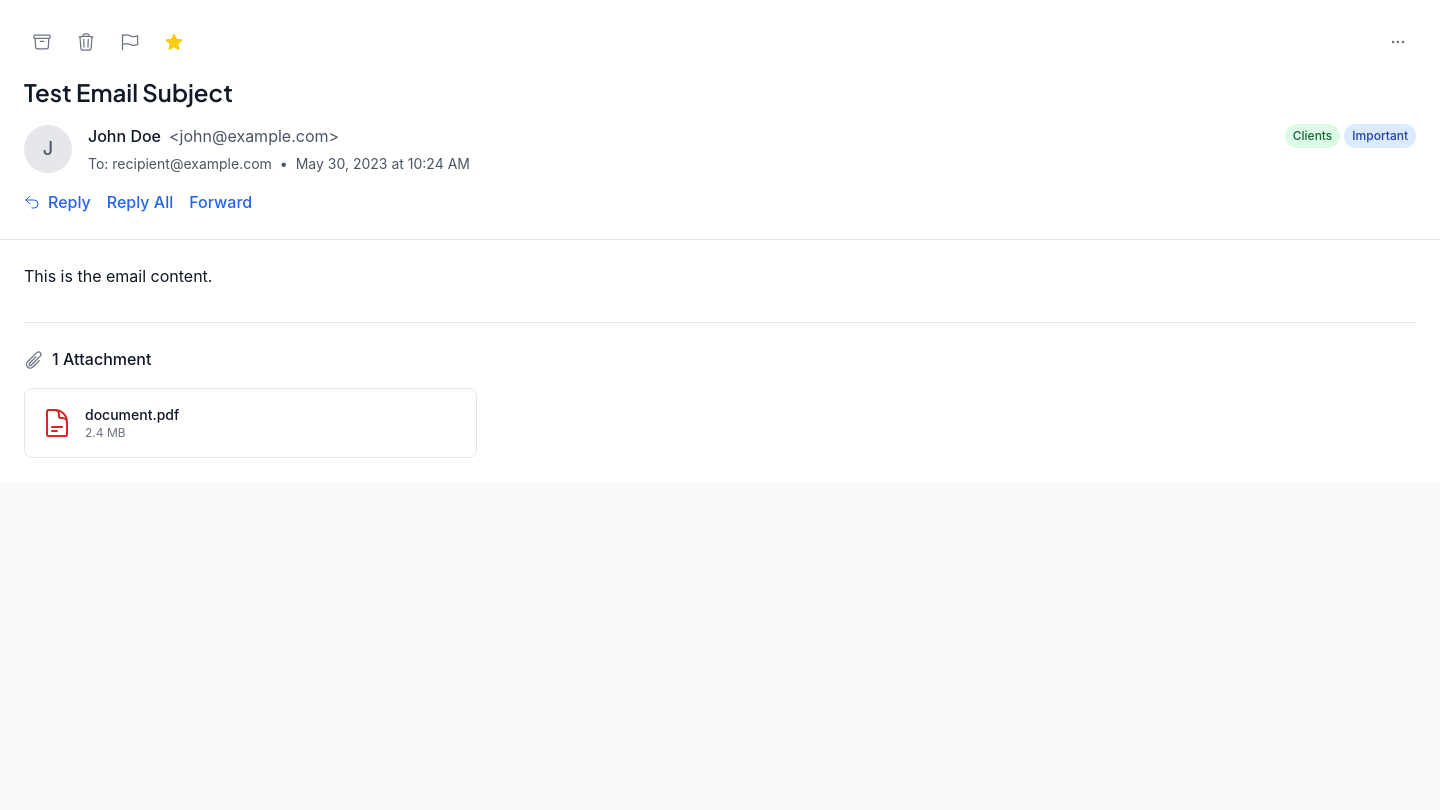
Test: EmailViewer › enables send button when reply text is entered
Click the button "Reply". click: point(57, 202)
box: top-left (24, 190), bottom-right (91, 215)
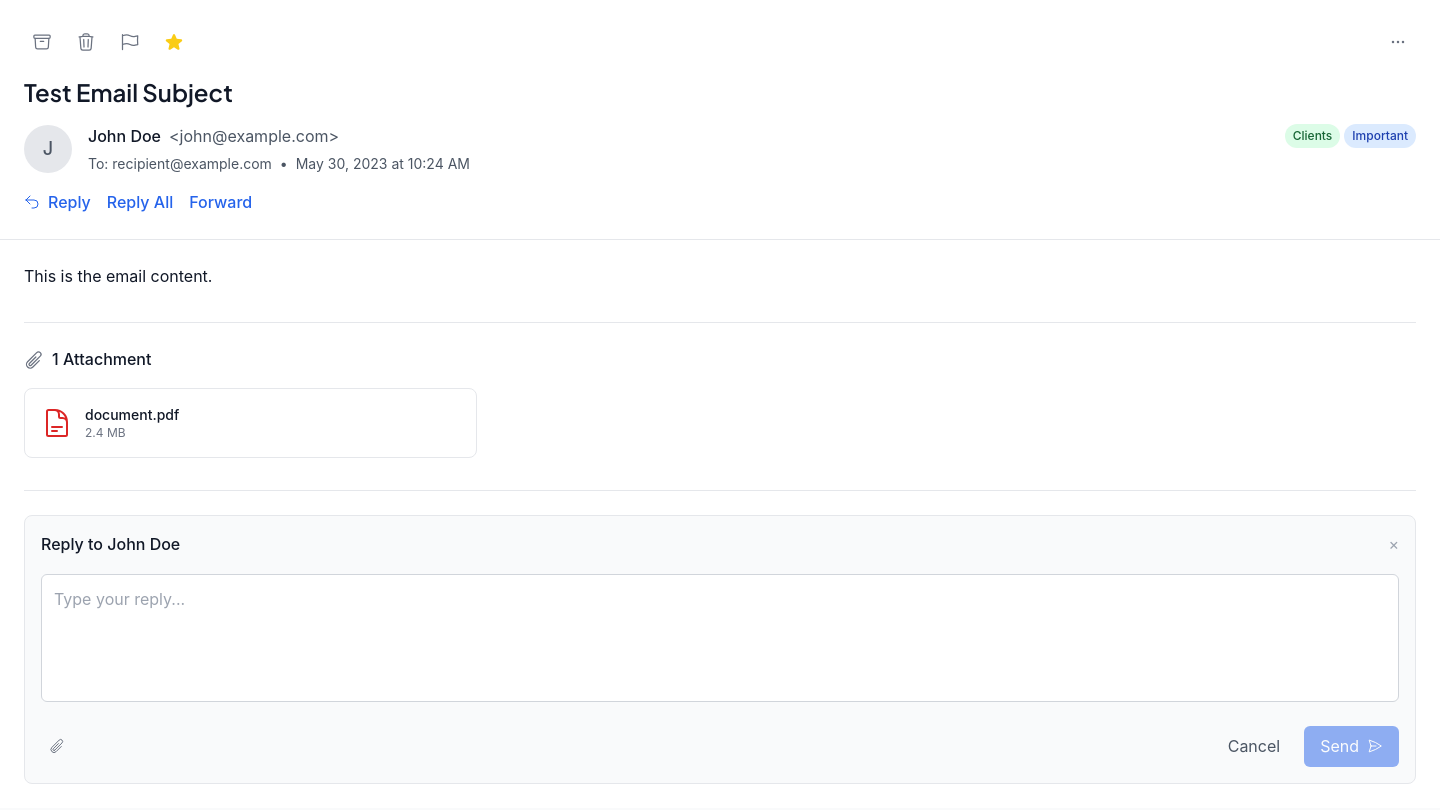
Type "This is my reply" into the text box with placeholder "Type your reply...". click: point(720, 638)
box: top-left (41, 574), bottom-right (1399, 702)
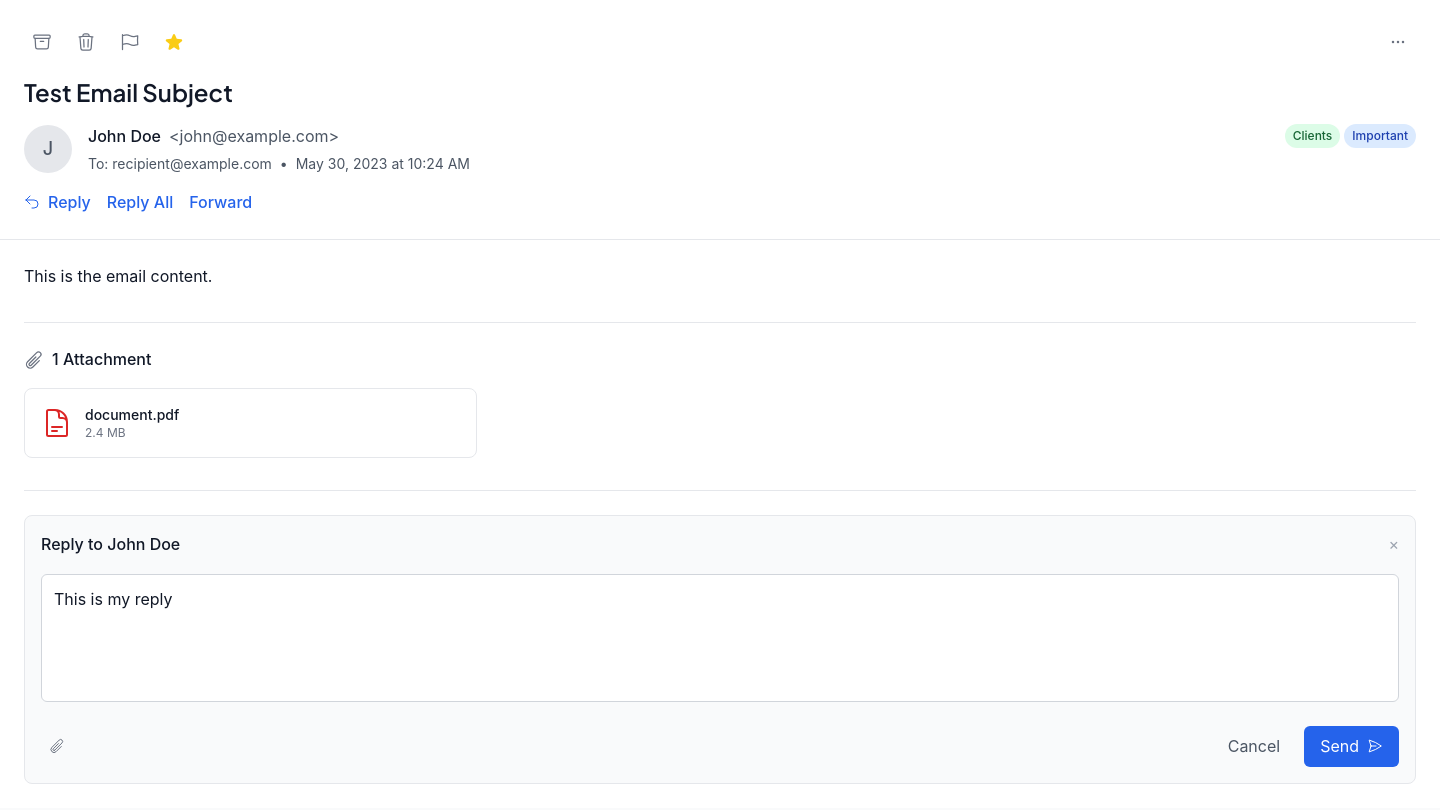
Expected: the button "Send" is enabled, top-left (1304, 726), bottom-right (1399, 767)
